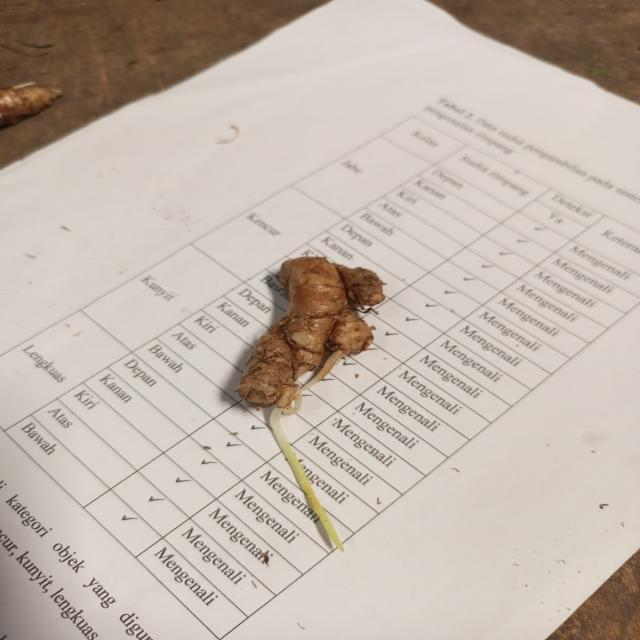ginger: (232, 250, 366, 400)
